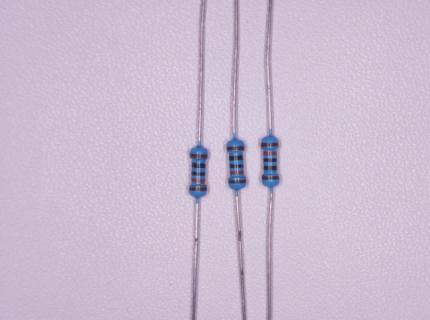Black band: (191, 162, 205, 169), (263, 165, 278, 171), (229, 155, 243, 161), (263, 158, 277, 163), (191, 171, 205, 176), (230, 164, 243, 169)
Brown band: (190, 153, 208, 159), (262, 175, 280, 181), (227, 146, 245, 151), (228, 179, 246, 184), (261, 142, 278, 147), (189, 187, 207, 191)
Orange band: (263, 151, 277, 156), (191, 178, 205, 183), (230, 171, 244, 175)
